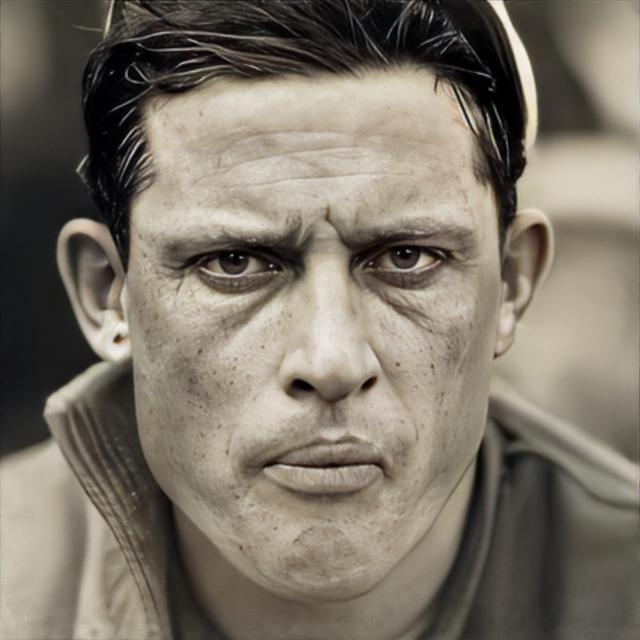anger: (132, 61, 497, 594)
